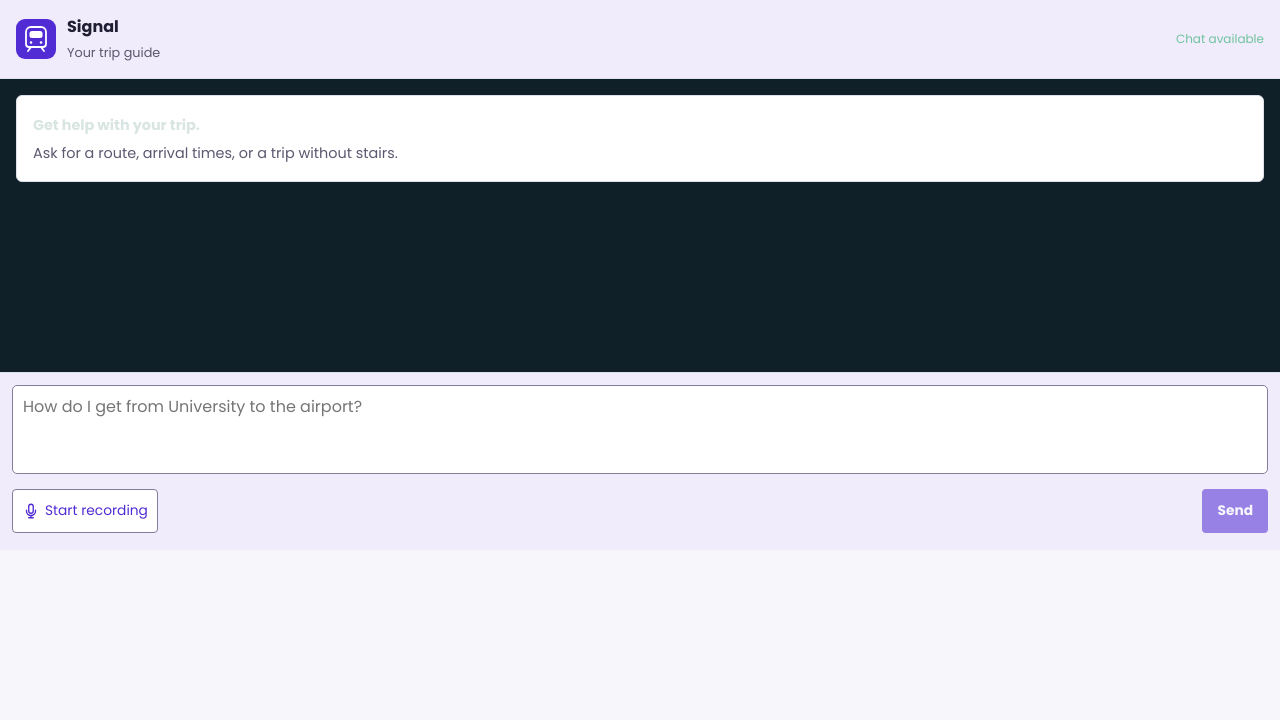
starts and stops on separate taps and puts the transcript in the editable draft
Later steps or results of the test are not shown.
Expected: the heading "Signal" is shown, [67,15,119,38]
Click the button "Start recording".
click(85, 511)  # box [12,489,158,533]
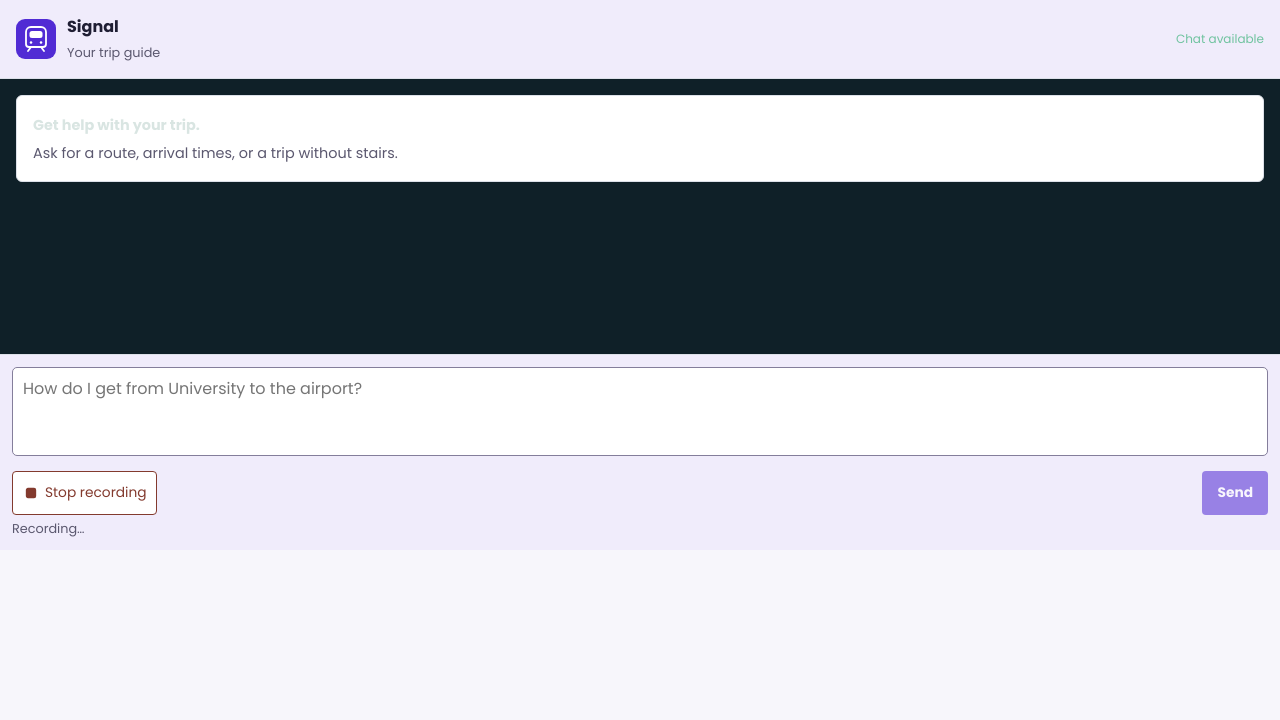
Now the message shows "Recording", box [12,520,84,537]
Type "Existing draft" into the text box.
click(640, 411); type("Existing draft")  # box [12,367,1268,456]
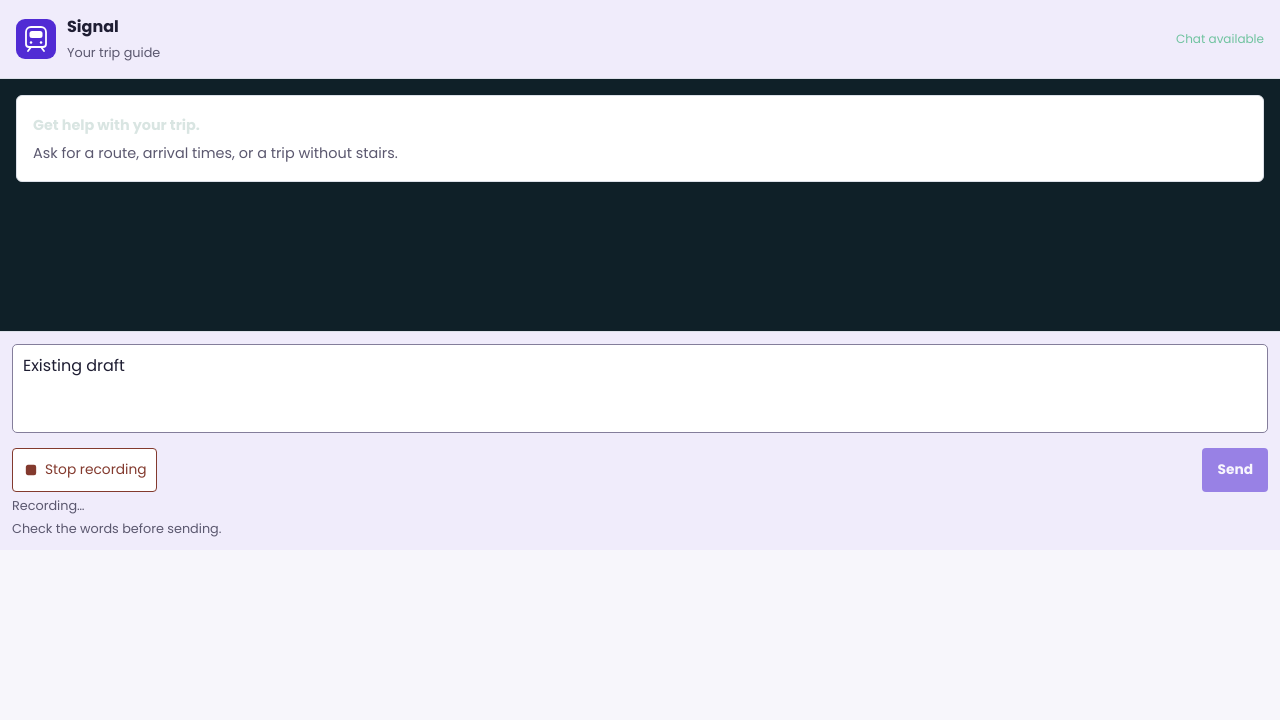
Click the button "Stop recording".
click(84, 470)  # box [12,448,156,492]
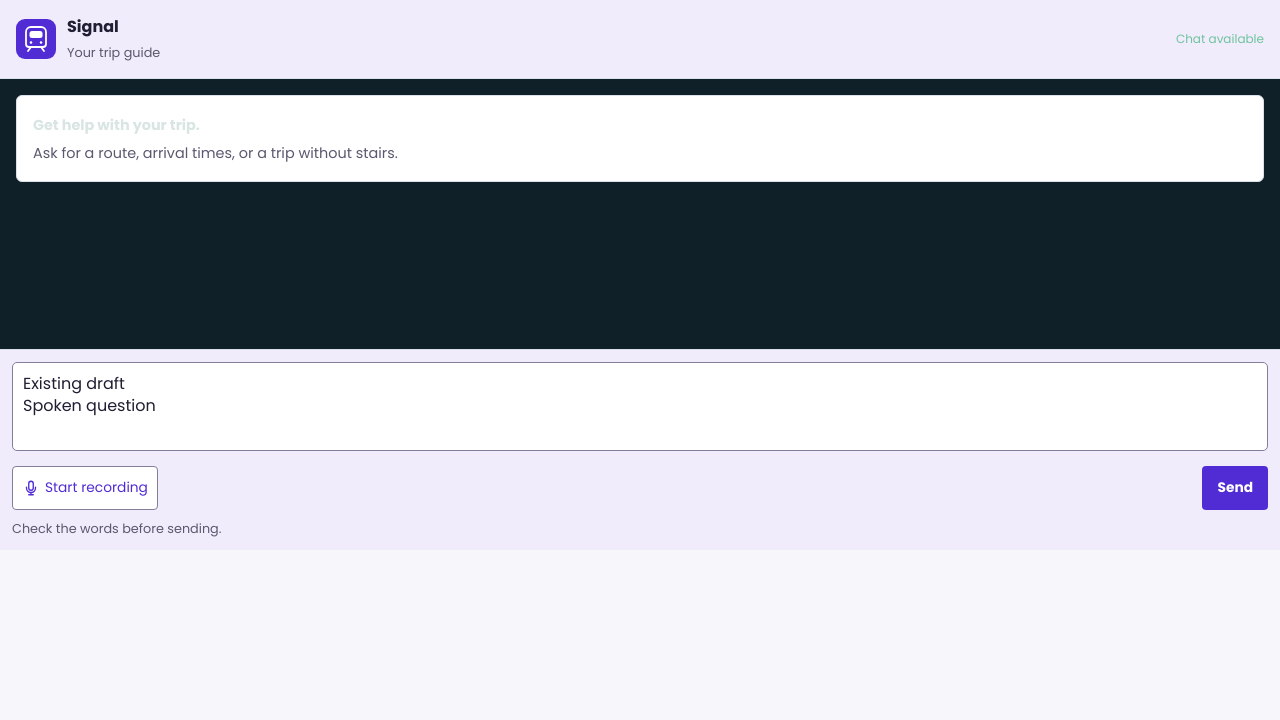
Replace the text in the text box with "Edited question" at (640, 406), box [12,362,1268,451]
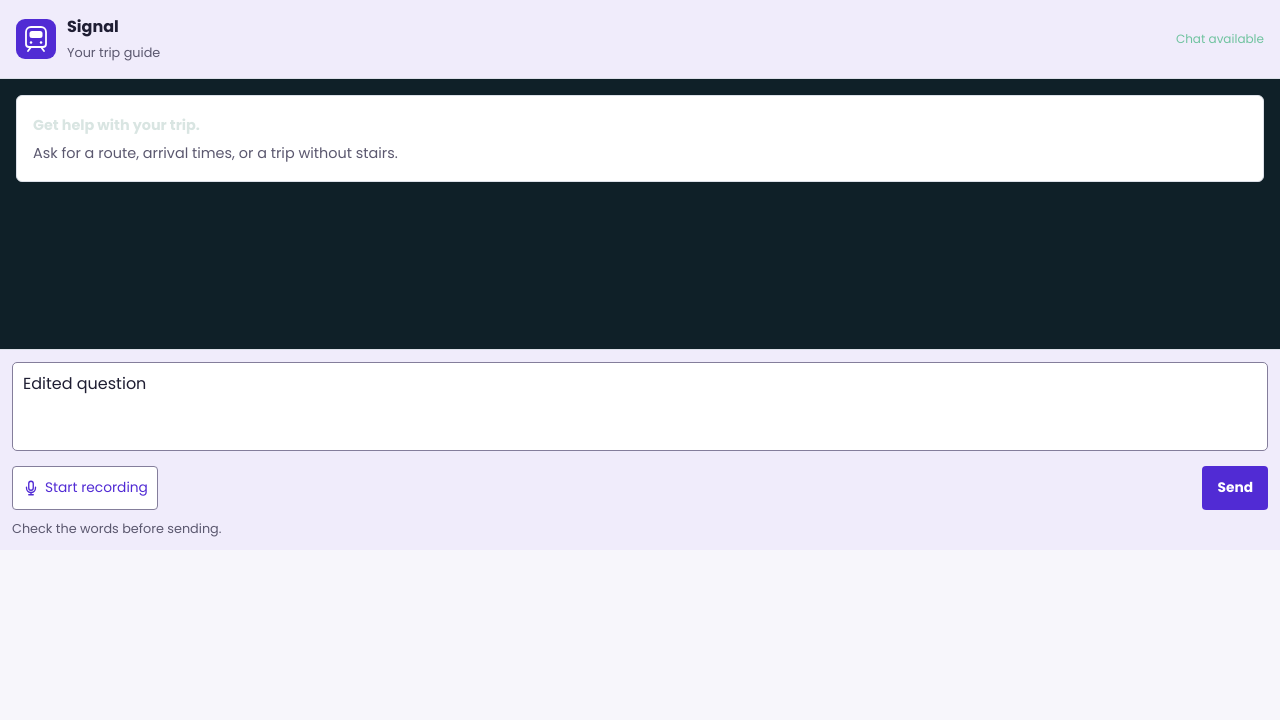
Click the button "Send".
click(1235, 488)  # box [1202,466,1268,510]
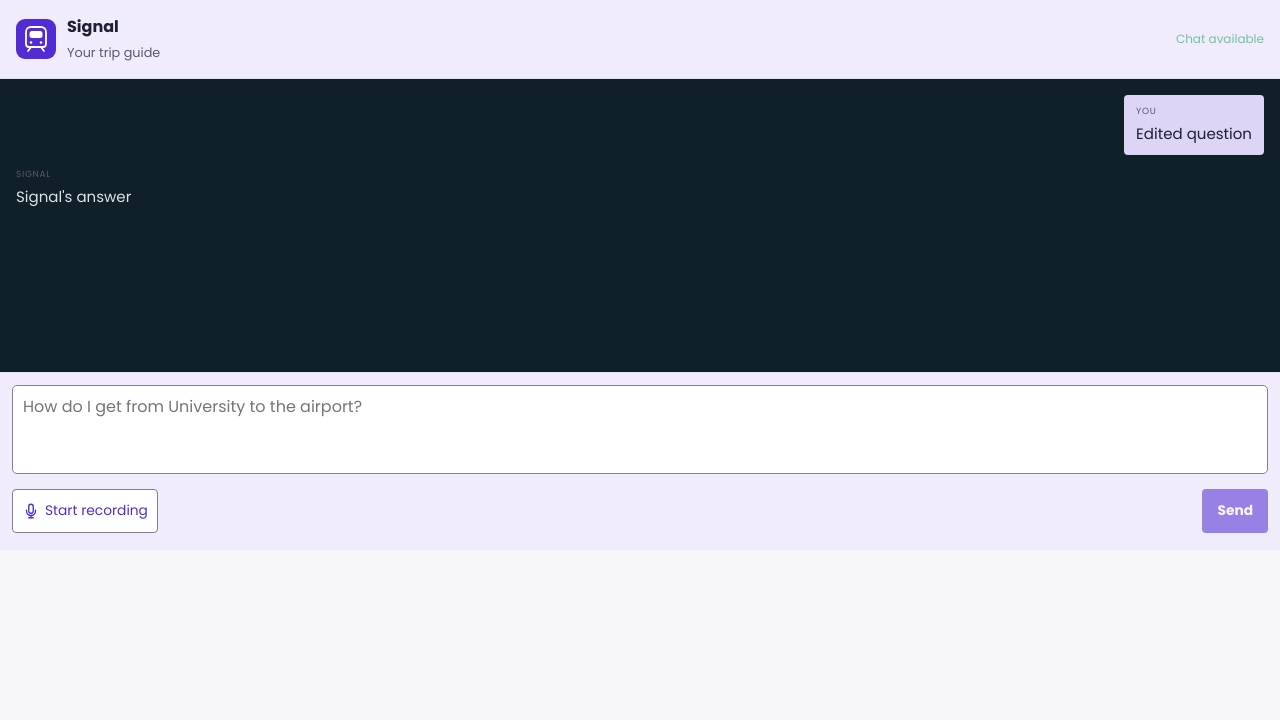
Now the text "Signal's answer" is shown, box [16,185,131,209]
